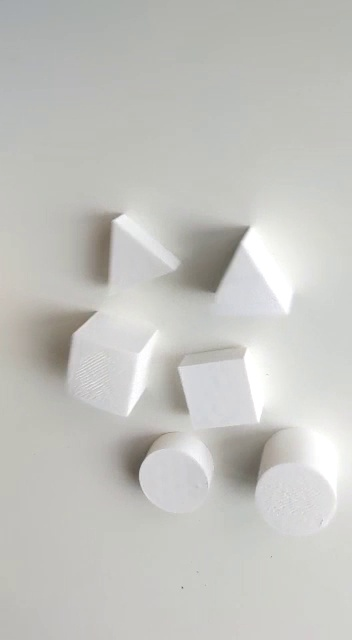Clyinder_short: (131, 428, 218, 517)
Cube: (61, 308, 161, 421)
Cube_short: (176, 342, 266, 430)
Cylinder: (253, 422, 339, 539)
Triangle: (209, 224, 297, 324)
Triangle_short: (103, 208, 180, 298)
